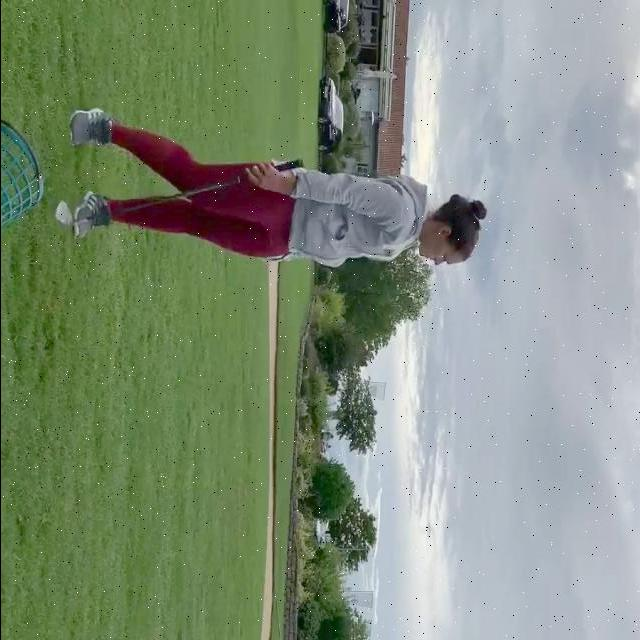golf club-handle: (54, 158, 302, 226)
golf club-head: (54, 200, 73, 225)
